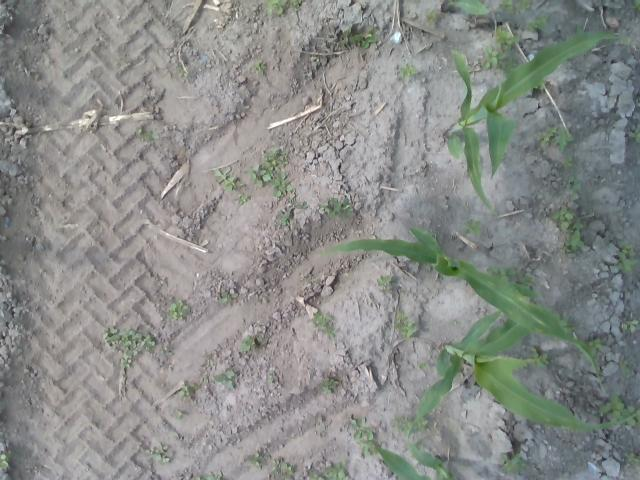Maize: (313, 226, 611, 392), (444, 29, 630, 210), (408, 309, 638, 439), (363, 438, 456, 480), (440, 0, 490, 14)
Weeds: (551, 205, 585, 254), (101, 326, 156, 352), (600, 394, 640, 427), (350, 416, 382, 456), (481, 46, 518, 77), (538, 125, 573, 152), (338, 26, 378, 48), (319, 196, 354, 221), (615, 241, 638, 275), (392, 414, 429, 434), (492, 25, 520, 50), (244, 163, 272, 188), (501, 450, 527, 474), (559, 175, 582, 200), (214, 166, 236, 192), (262, 149, 288, 171), (270, 172, 292, 198), (144, 444, 171, 464), (554, 311, 576, 335), (486, 265, 516, 282), (212, 370, 236, 391), (323, 460, 347, 480), (272, 459, 294, 480), (529, 346, 550, 368), (167, 300, 189, 320), (396, 320, 418, 338), (136, 126, 160, 142), (526, 15, 548, 32), (399, 61, 418, 80), (120, 350, 140, 368), (462, 218, 482, 236), (311, 310, 332, 327), (178, 383, 200, 398), (265, 0, 287, 15), (240, 336, 262, 350), (320, 377, 338, 394), (245, 452, 262, 469), (519, 271, 537, 287), (278, 209, 294, 226), (623, 451, 640, 467), (377, 274, 392, 290), (196, 471, 222, 480), (412, 438, 428, 452), (322, 324, 336, 340), (588, 338, 602, 354), (629, 124, 640, 144), (0, 450, 11, 468), (252, 60, 266, 74), (308, 470, 326, 480), (620, 320, 638, 330), (562, 156, 574, 170), (516, 0, 530, 12), (425, 10, 437, 24), (499, 0, 514, 11), (534, 77, 546, 90), (394, 309, 408, 320), (176, 66, 188, 78), (620, 360, 630, 374), (288, 0, 300, 11), (238, 192, 248, 205), (219, 291, 229, 303), (170, 410, 183, 419), (420, 360, 430, 370), (268, 372, 277, 382), (631, 0, 640, 10), (576, 26, 584, 34), (302, 202, 308, 209), (314, 56, 320, 63), (451, 319, 457, 324)
